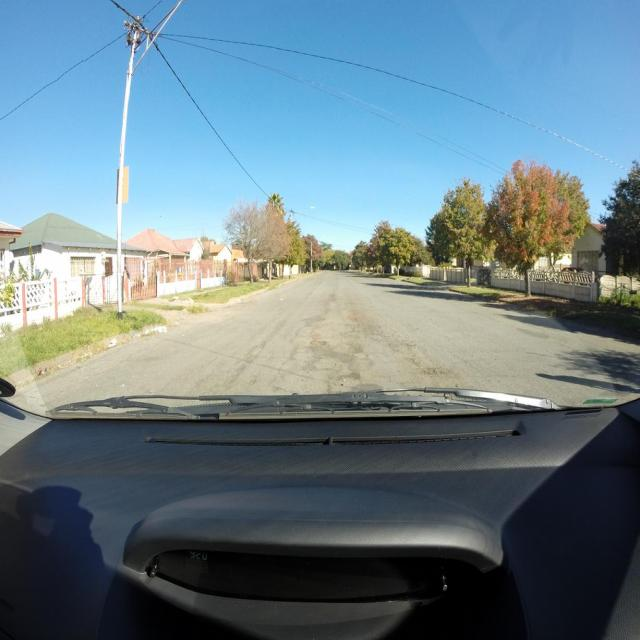Pothole: (417, 366, 449, 375), (344, 310, 362, 320), (310, 340, 326, 347)
